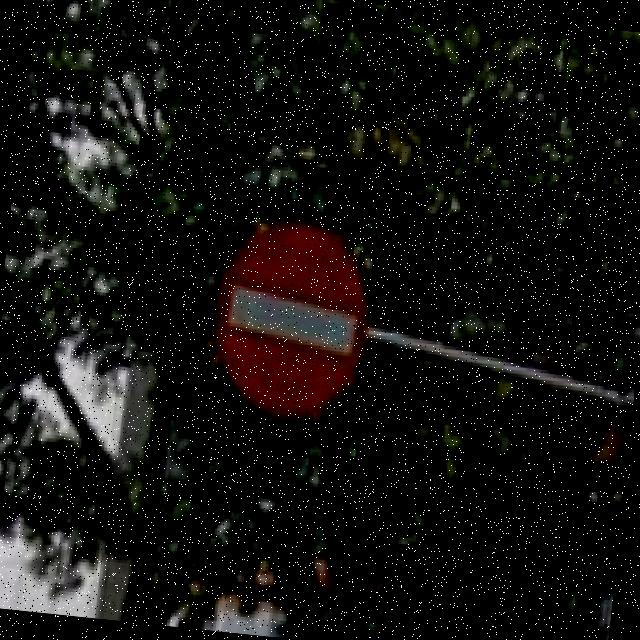Zakaz wjazdu: (206, 216, 372, 418)
